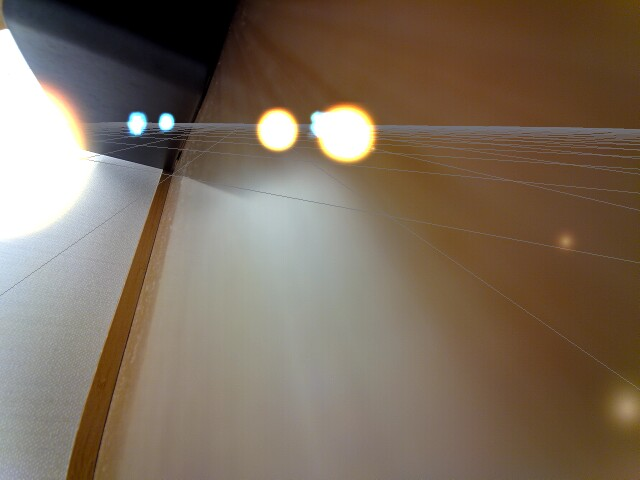firebig: (0, 58, 98, 242)
